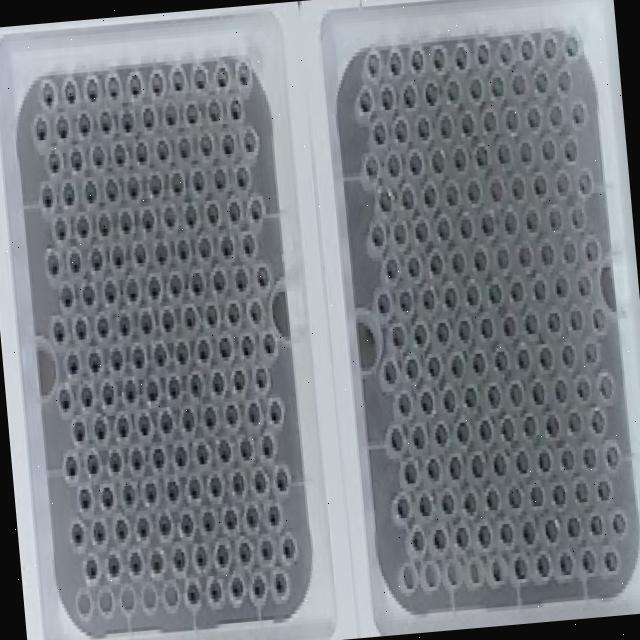pfs: (228, 574, 244, 604), (235, 60, 251, 89), (63, 451, 78, 481), (185, 580, 201, 608), (41, 79, 56, 107), (242, 127, 257, 155), (104, 274, 119, 302), (584, 236, 599, 262), (241, 231, 256, 257), (249, 196, 264, 221), (196, 438, 211, 463), (250, 574, 266, 597), (215, 542, 229, 568), (423, 182, 437, 207), (421, 286, 435, 311), (443, 282, 457, 307), (40, 183, 54, 208), (282, 534, 296, 559), (445, 183, 460, 206), (377, 290, 392, 313), (259, 538, 274, 561), (591, 408, 604, 434), (34, 115, 47, 141), (46, 248, 59, 274), (269, 398, 282, 424), (439, 113, 453, 137), (526, 208, 540, 232), (539, 346, 553, 370), (227, 199, 241, 223), (239, 436, 253, 460), (582, 548, 595, 573), (200, 131, 213, 156), (58, 386, 71, 411), (231, 470, 244, 495), (548, 207, 562, 230), (391, 324, 405, 347), (383, 360, 397, 383), (450, 354, 464, 377), (599, 374, 613, 397), (398, 392, 412, 415), (559, 552, 573, 575), (247, 400, 261, 423), (238, 540, 252, 563), (274, 570, 288, 593), (365, 154, 378, 178), (379, 188, 392, 212), (457, 318, 470, 342), (605, 444, 618, 468), (464, 490, 477, 514), (86, 75, 98, 101), (55, 115, 68, 139), (126, 175, 139, 199), (206, 201, 219, 225), (190, 372, 203, 396), (211, 370, 224, 394), (255, 366, 268, 390), (455, 526, 469, 548), (425, 81, 438, 104), (564, 137, 577, 160), (373, 121, 386, 144), (432, 149, 445, 172), (579, 171, 592, 194), (385, 256, 398, 279), (414, 322, 427, 345), (427, 354, 440, 377), (472, 350, 485, 373), (554, 378, 567, 401), (509, 382, 522, 405), (487, 384, 500, 407), (442, 388, 455, 411), (479, 418, 492, 441), (515, 450, 528, 473), (493, 452, 506, 475), (471, 454, 484, 477), (427, 457, 440, 480), (404, 460, 417, 483), (412, 527, 425, 550), (433, 527, 446, 550), (478, 524, 491, 547), (514, 556, 527, 579), (545, 518, 558, 541), (215, 64, 228, 87), (105, 177, 118, 200), (235, 267, 248, 290), (60, 285, 73, 308), (205, 303, 218, 326), (188, 476, 201, 499), (129, 550, 142, 573), (150, 550, 163, 573), (158, 512, 171, 535), (245, 504, 258, 527), (499, 522, 513, 543), (240, 335, 254, 356), (455, 45, 467, 69), (418, 114, 430, 138), (438, 216, 450, 240), (504, 210, 516, 234), (70, 147, 82, 171), (48, 149, 60, 173), (185, 203, 197, 227), (53, 318, 65, 342), (219, 334, 231, 358), (154, 342, 166, 366), (132, 344, 144, 368), (182, 408, 194, 432), (138, 412, 150, 436), (210, 474, 222, 498), (565, 35, 578, 57), (543, 37, 556, 59), (481, 213, 494, 235), (466, 284, 479, 306), (488, 282, 501, 304), (510, 280, 523, 302), (193, 66, 206, 88), (221, 132, 234, 154), (53, 217, 66, 239), (197, 339, 210, 361), (225, 404, 238, 426), (451, 251, 465, 271), (389, 51, 401, 74), (367, 53, 379, 76), (360, 89, 372, 112), (395, 119, 407, 142), (454, 147, 466, 170), (402, 186, 414, 209), (437, 320, 449, 343), (532, 380, 544, 403), (420, 390, 432, 413), (523, 520, 535, 543), (172, 68, 184, 91), (64, 80, 76, 103), (208, 98, 220, 121), (85, 179, 97, 202), (91, 247, 103, 270), (263, 331, 275, 354), (213, 269, 225, 292), (191, 271, 203, 294), (126, 277, 138, 300), (124, 378, 136, 401), (160, 410, 172, 433), (94, 416, 106, 439), (218, 438, 230, 461), (262, 434, 274, 457), (276, 466, 288, 489), (166, 478, 178, 501), (144, 480, 156, 503), (85, 556, 97, 579), (173, 548, 185, 571), (209, 578, 221, 601), (512, 73, 525, 94), (527, 107, 540, 128), (505, 109, 518, 130), (519, 141, 532, 162), (542, 139, 555, 160), (571, 207, 584, 228), (563, 241, 576, 262), (541, 243, 554, 264), (399, 290, 412, 311), (547, 310, 560, 331), (577, 378, 590, 399), (456, 422, 469, 443), (546, 414, 559, 435), (568, 412, 581, 433), (583, 446, 596, 467), (538, 450, 551, 471), (396, 495, 409, 516), (508, 486, 521, 507), (530, 484, 543, 505), (552, 484, 565, 505), (575, 480, 588, 501), (567, 516, 580, 537), (597, 478, 610, 499), (612, 512, 625, 533), (604, 550, 617, 571), (236, 166, 249, 187), (220, 235, 233, 256), (101, 382, 114, 403), (78, 488, 91, 509), (115, 518, 128, 539), (521, 39, 533, 61), (413, 426, 425, 448), (449, 456, 461, 478), (78, 113, 90, 135), (140, 311, 152, 333), (176, 341, 188, 363), (88, 350, 100, 372), (233, 368, 245, 390), (86, 452, 98, 474), (71, 522, 83, 544), (549, 105, 562, 125), (371, 225, 384, 245), (524, 313, 537, 333), (192, 170, 205, 190), (433, 47, 444, 70), (70, 249, 81, 272), (228, 299, 239, 322), (170, 273, 181, 296), (117, 414, 128, 437), (477, 43, 489, 64), (411, 49, 423, 70), (470, 77, 482, 98), (491, 75, 503, 96), (535, 71, 547, 92), (558, 69, 570, 90), (572, 103, 584, 124), (484, 111, 496, 132), (388, 155, 400, 176), (409, 153, 421, 174), (476, 145, 488, 166), (498, 143, 510, 164), (557, 173, 569, 194), (534, 175, 546, 196), (512, 177, 524, 198), (490, 179, 502, 200), (468, 181, 480, 202), (394, 223, 406, 244), (415, 221, 427, 242), (460, 217, 472, 238), (519, 244, 531, 265), (430, 252, 442, 273), (408, 257, 420, 278), (534, 279, 546, 300), (578, 275, 590, 296), (570, 308, 582, 329), (592, 309, 604, 330), (481, 316, 493, 337), (518, 348, 530, 369), (562, 344, 574, 365), (435, 424, 447, 445), (502, 418, 514, 439), (523, 416, 535, 437), (561, 448, 573, 469), (442, 492, 454, 513), (537, 554, 549, 575), (590, 514, 602, 535), (151, 72, 163, 93), (107, 76, 119, 97), (99, 112, 111, 133), (121, 110, 133, 131), (165, 104, 177, 125), (113, 143, 125, 164), (92, 145, 104, 166), (119, 211, 131, 232), (77, 215, 89, 236), (112, 245, 124, 266), (134, 243, 146, 264), (177, 239, 189, 260), (257, 265, 269, 286), (249, 301, 261, 322), (82, 283, 94, 304), (162, 309, 174, 330), (111, 349, 123, 370), (204, 406, 216, 427), (73, 420, 85, 441), (109, 450, 121, 471), (131, 448, 143, 469), (152, 446, 164, 467), (175, 444, 187, 465), (254, 470, 266, 491), (101, 486, 113, 507), (93, 520, 105, 541), (137, 516, 149, 537), (181, 512, 193, 533), (224, 508, 236, 529), (405, 358, 418, 377), (141, 209, 154, 228), (75, 317, 86, 339), (119, 313, 130, 335), (496, 247, 508, 267), (419, 494, 431, 514), (178, 138, 190, 158), (157, 140, 169, 160), (171, 172, 183, 192), (97, 315, 109, 335), (184, 307, 196, 327), (66, 353, 78, 373), (202, 511, 214, 531), (268, 505, 280, 525), (474, 251, 487, 269), (198, 238, 211, 256), (500, 41, 511, 62), (382, 87, 393, 108), (404, 85, 415, 106), (462, 113, 473, 134), (465, 386, 476, 407), (130, 74, 141, 95), (143, 106, 154, 127), (230, 98, 241, 119), (136, 141, 147, 162), (63, 183, 74, 204), (214, 168, 225, 189), (164, 205, 175, 226), (156, 241, 167, 262), (149, 277, 160, 298), (168, 377, 179, 398), (123, 484, 134, 505), (108, 554, 119, 575), (196, 546, 207, 567), (492, 558, 502, 581), (447, 81, 459, 100), (503, 316, 515, 335), (495, 350, 507, 369), (585, 342, 597, 361), (391, 428, 402, 448), (487, 488, 498, 508), (150, 174, 161, 194), (147, 379, 158, 399), (555, 277, 567, 295), (99, 213, 109, 234), (81, 385, 91, 405), (187, 104, 197, 123)
